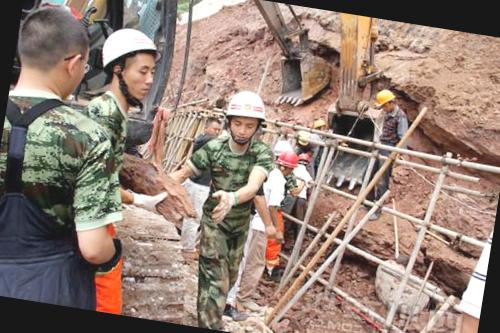no_helmet: (8, 0, 96, 109), (198, 113, 222, 139)
